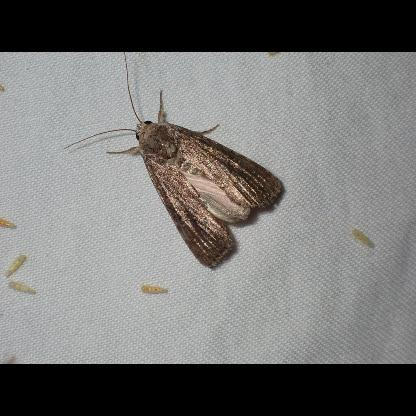Fall Armyworm Moth: (63, 52, 285, 272)
